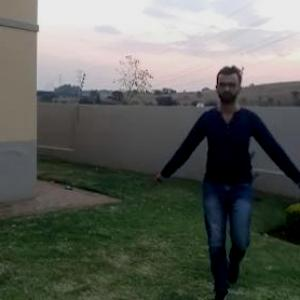land: (153, 57, 299, 299)
